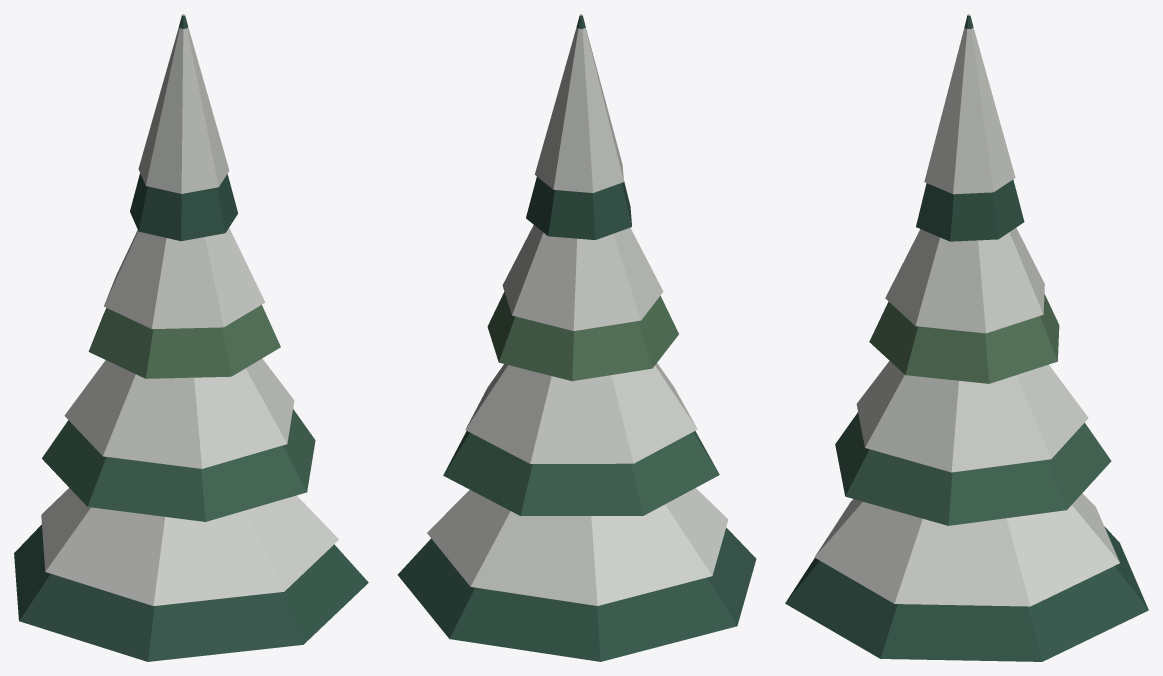
The picture shows the model from 3 angles, left to right: view 1: azimuth 30°, elevation 25°; view 2: azimuth 150°, elevation 25°; view 3: azimuth 270°, elevation 25°; orthographic projection.
Parts seen in each view (by area): view 1: T02_修长雪杉; view 2: T02_修长雪杉; view 3: T02_修长雪杉.
Part boxes in pixels (x1,y1,x2,y2): T02_修长雪杉: [14, 14, 368, 661]; T02_修长雪杉: [397, 14, 756, 661]; T02_修长雪杉: [785, 14, 1148, 661].
Size of the model in its own units: 1.74 by 3.4 by 1.76.
